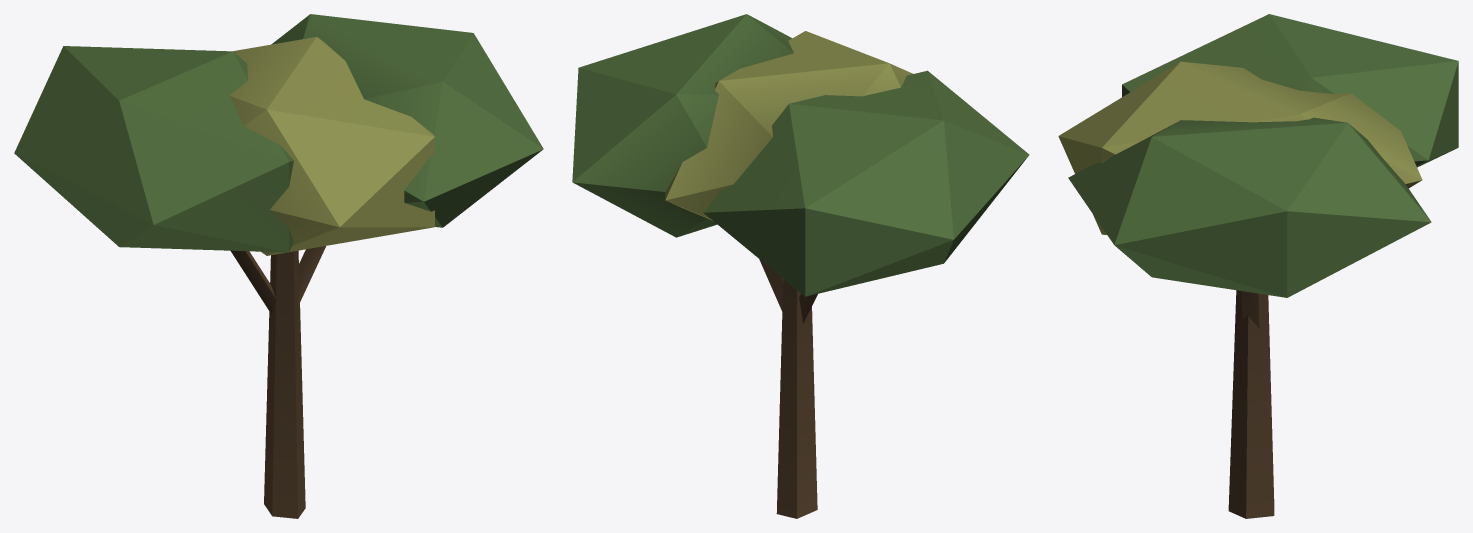
Rendered from tree-pine-3.glb.
3 renders of one model, left to right at view 1: azimuth 30°, elevation 25°; view 2: azimuth 150°, elevation 25°; view 3: azimuth 270°, elevation 25°, orthographic. The views are drawn at different scales.
Parts seen in each view (by area): view 1: tree-pine-3; view 2: tree-pine-3; view 3: tree-pine-3.
Boxes of the visible parts, bbox=[...] form: tree-pine-3: bbox=[14, 14, 543, 518]; tree-pine-3: bbox=[572, 14, 1029, 518]; tree-pine-3: bbox=[1058, 14, 1458, 518].
Bounding box in the file's own units: 14 × 14 × 12.
